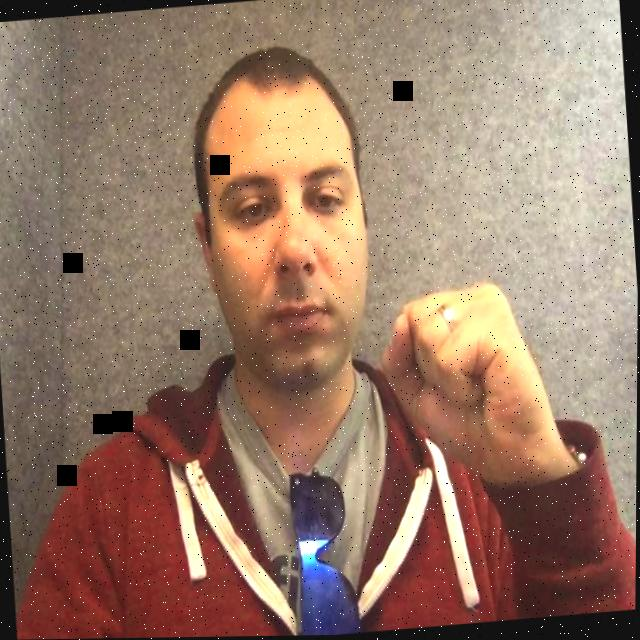Rock: (363, 271, 579, 504)
